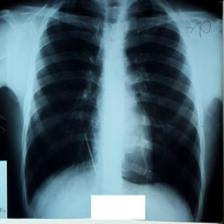tuberculosis: (21, 0, 203, 219)
